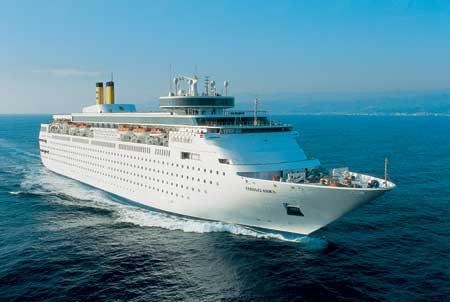youlun: (35, 67, 396, 239)
